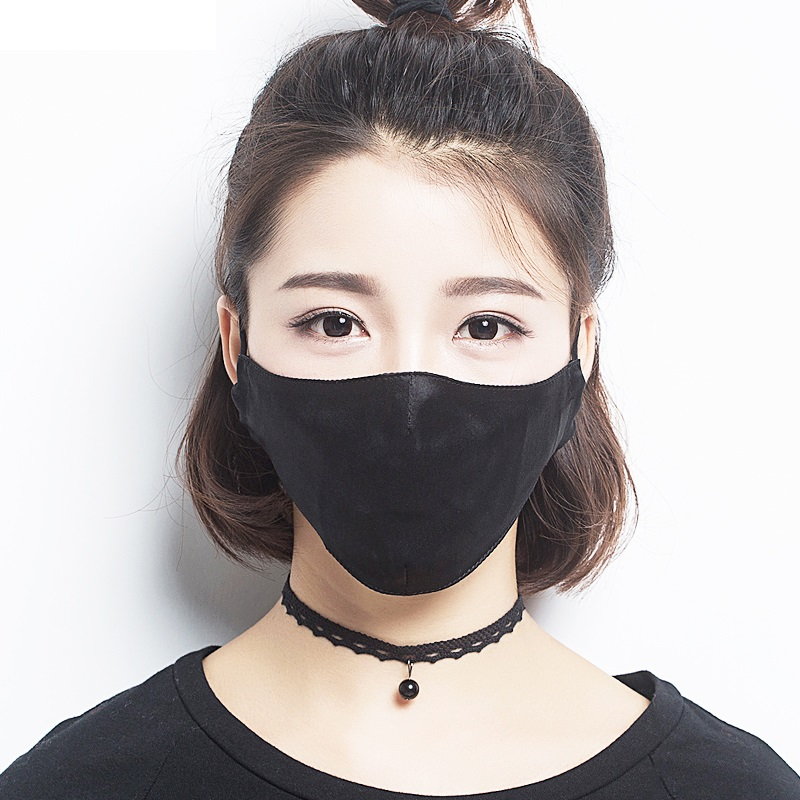face_mask: (250, 149, 568, 579)
